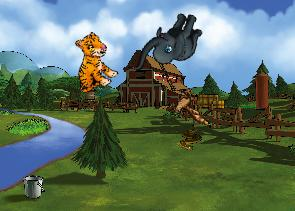eagle: (164, 89, 213, 128)
elephant: (132, 2, 206, 85)
tiger: (58, 29, 124, 98)
